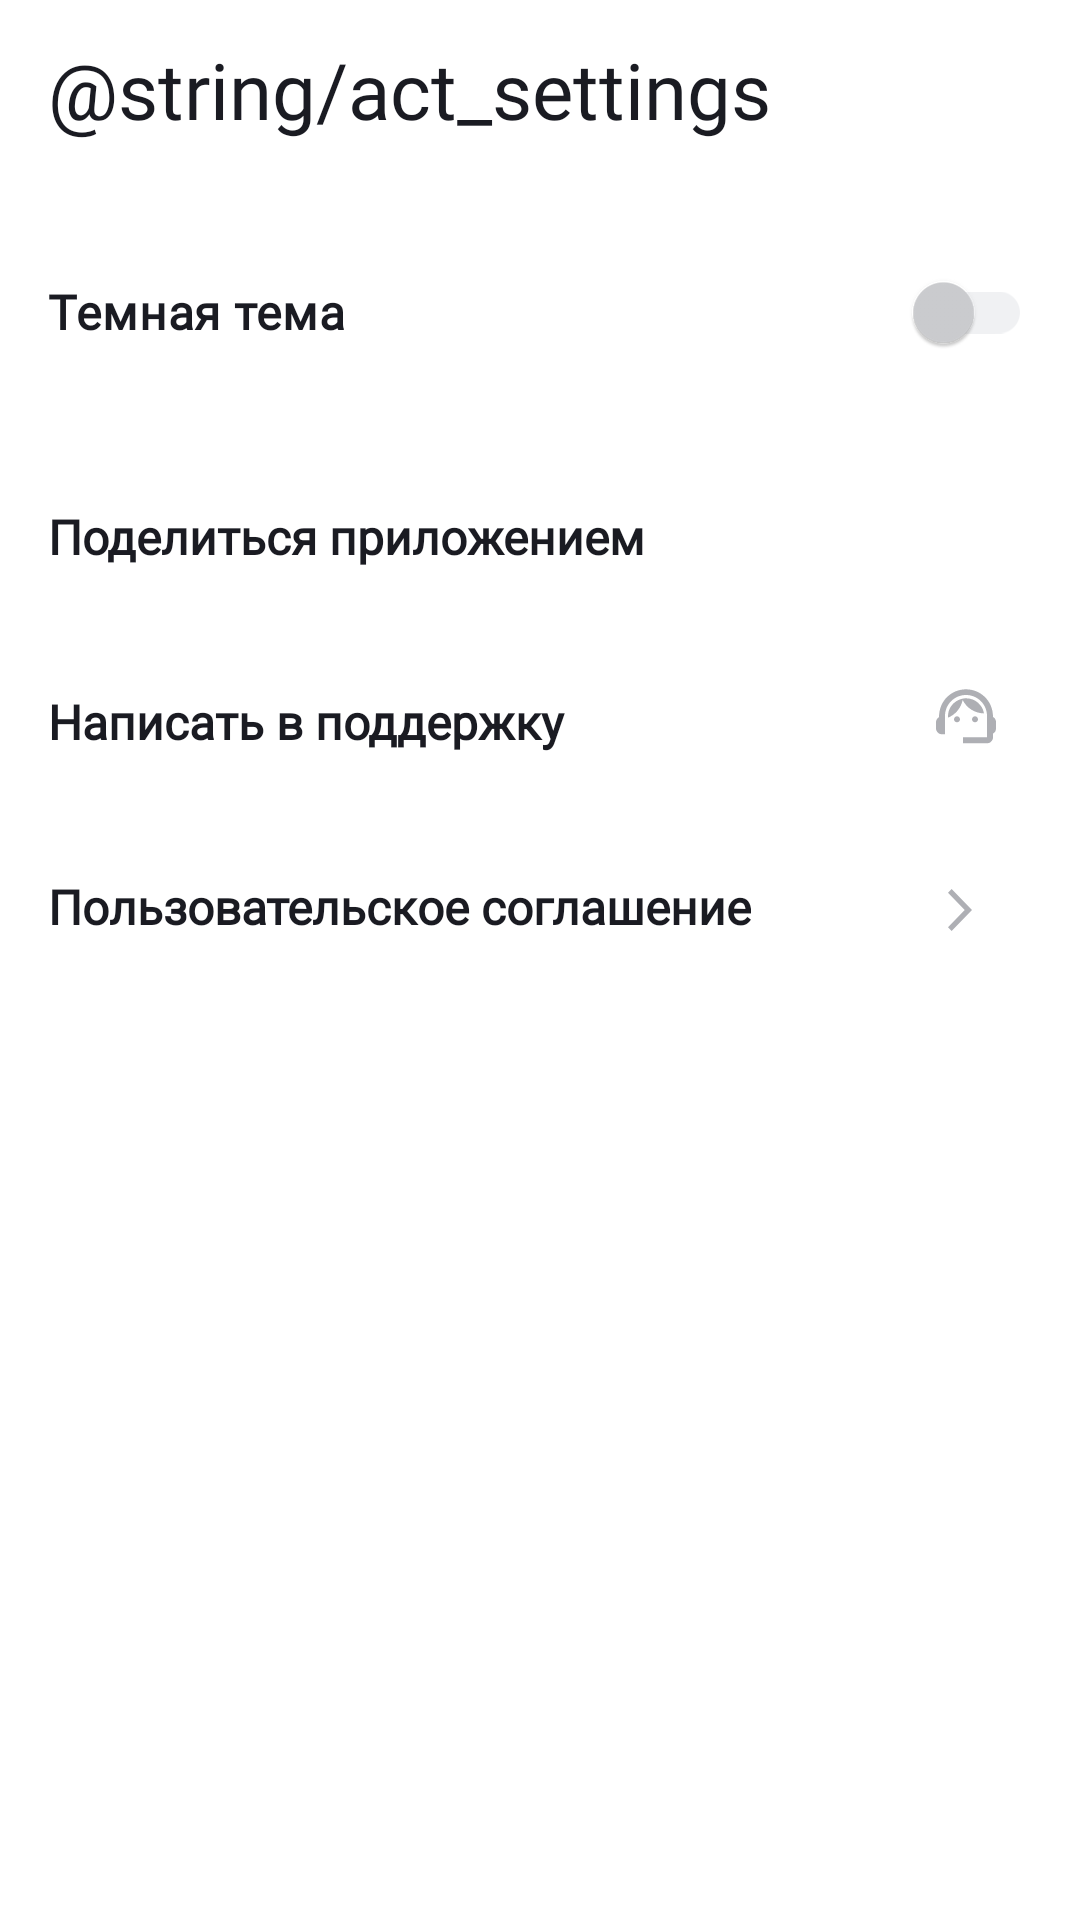

Icon bounding boxes for this 1080px x 1920px phone screenshot, format (x1, y1, x2, y2):
Support: (936, 689, 996, 743)
